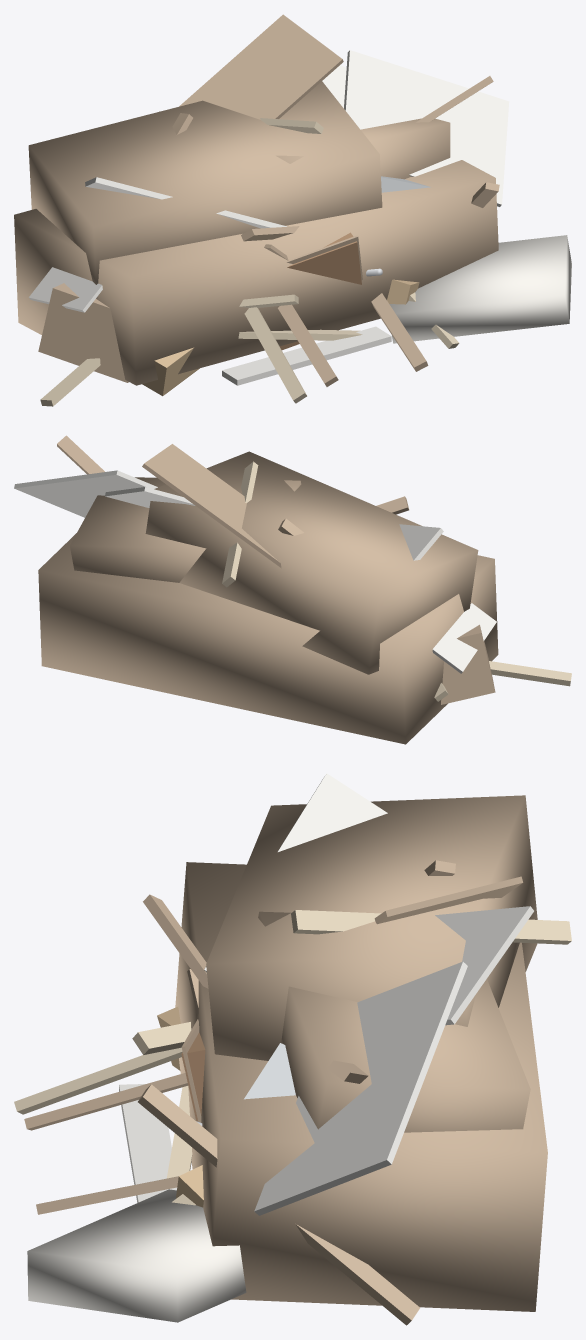
The model's file is CargoDebris.fbx.
3 renders of one model, top to bottom at view 1: azimuth 30°, elevation 25°; view 2: azimuth 150°, elevation 25°; view 3: azimuth 270°, elevation 25°, orthographic. The views are drawn at different scales.
Parts seen in each view (by area): view 1: Hazard_Cargo_Debris_Pile; view 2: Hazard_Cargo_Debris_Pile; view 3: Hazard_Cargo_Debris_Pile.
Boxes of the visible parts, bbox=[...] form: Hazard_Cargo_Debris_Pile: bbox=[14, 14, 571, 406]; Hazard_Cargo_Debris_Pile: bbox=[14, 435, 571, 744]; Hazard_Cargo_Debris_Pile: bbox=[14, 773, 571, 1325].
Size of the model in its own units: 395 by 174 by 238.
